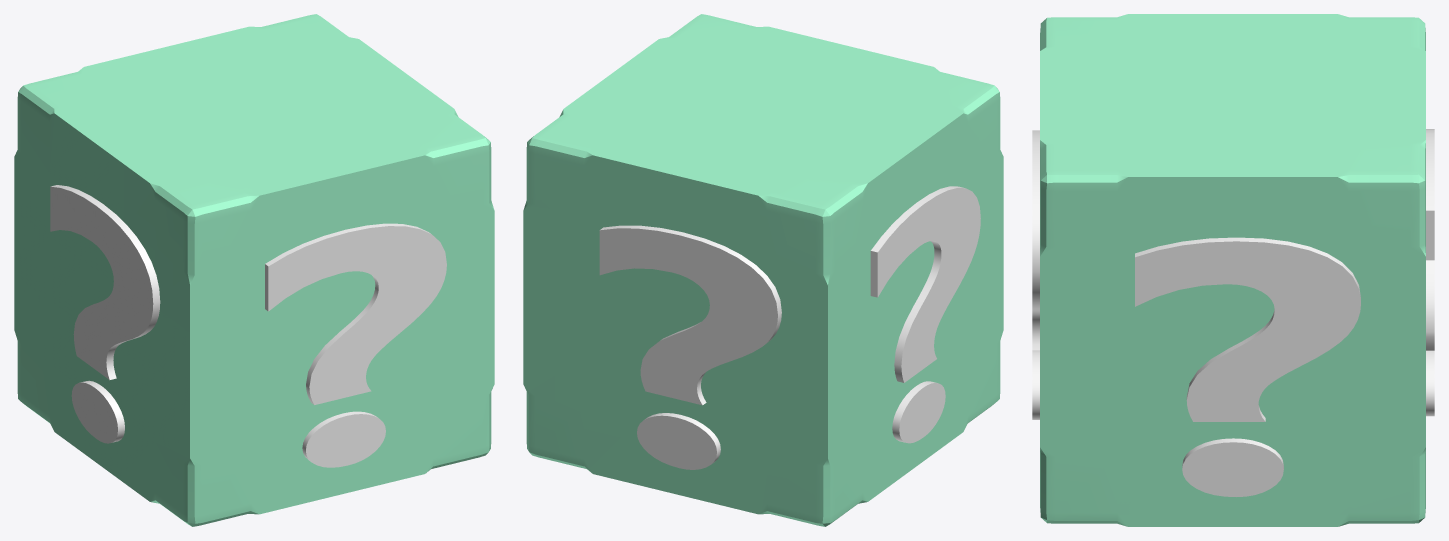
Rendered from itembox.fbx.
3 renders of one model, left to right at view 1: azimuth 30°, elevation 25°; view 2: azimuth 150°, elevation 25°; view 3: azimuth 270°, elevation 25°, orthographic. The views are drawn at different scales.
Visible parts, largest first — view 1: polySurface1; view 2: polySurface1; view 3: polySurface1.
Boxes of the visible parts, x1,y1,x2,y2 form: polySurface1: [14, 14, 494, 526]; polySurface1: [523, 14, 1003, 526]; polySurface1: [1032, 14, 1434, 526].
Bounding box in the file's own units: 1.05 × 1 × 1.04.
